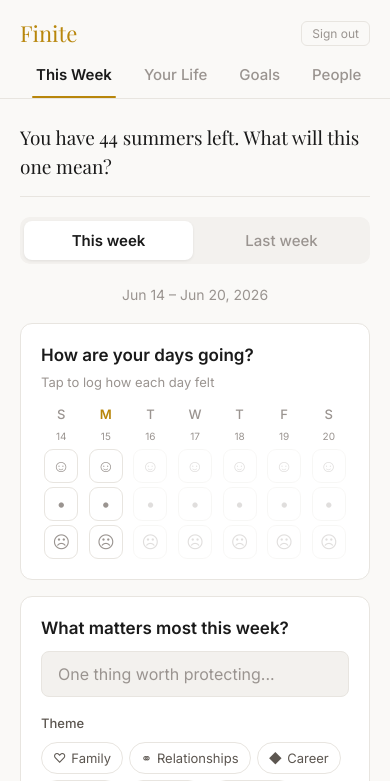
Test case: App — navigation › switches to Your Life tab
The image size is (390, 781).
Expected: the text "Finite" is shown, [20,16,78,51]
What coordinates should you click on to do the following:
click the button "Your Life"
I would click on:
 (176, 75)
Its box is [128,51,223,98].
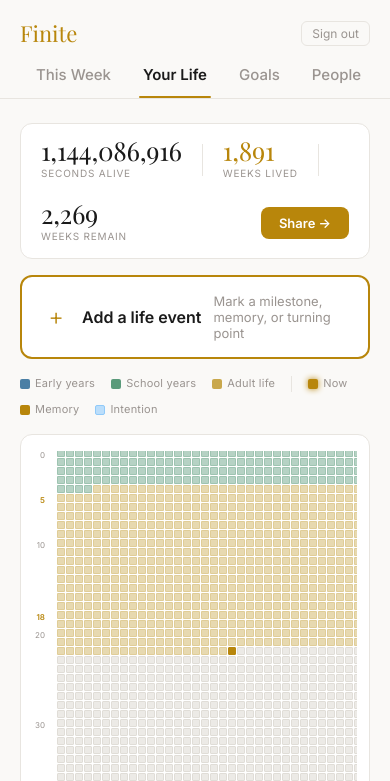
Now the text "seconds alive" is shown, box [41,167,131,179]
